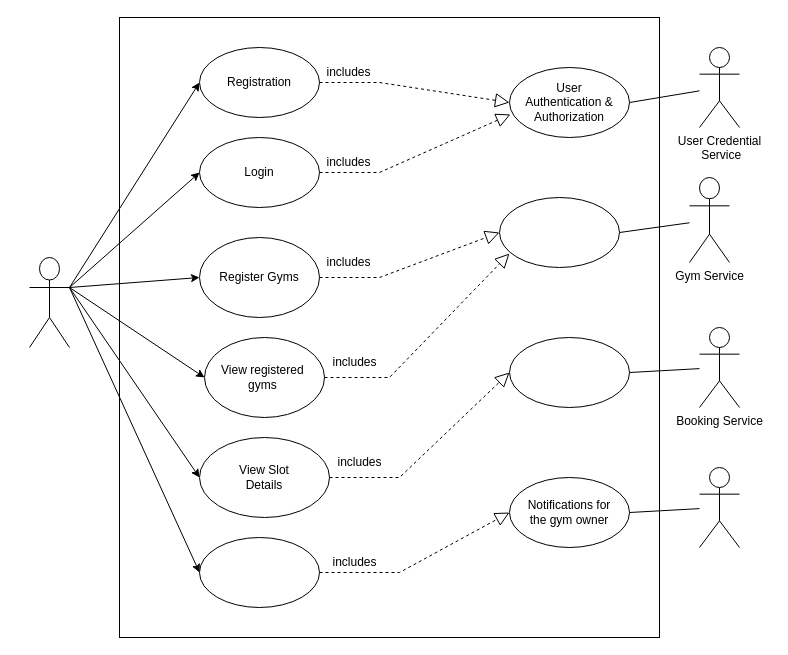
Image size: 788x655. Some labels were removed from this diagram. Each missing label, with the centre of its shape:
Check Gym owners' gyms: (559,232)
Check Notifications: (259,572)
Check Slot Booking: (569,372)
Gym Owner: (49,302)
Notification Service: (719,507)
